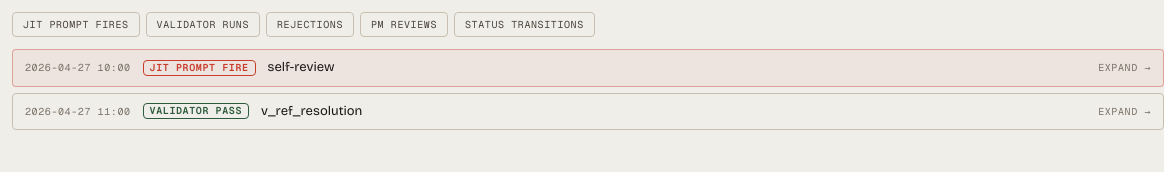
Scenario: SessionEventFeed › filter chip narrows the visible events to the selected kind bucket
expect the text "v_ref_resolution" is shown: met, box [261,102,362,118]
Click the button "JIT prompt fires" at (76, 24), box [12,12,140,37]
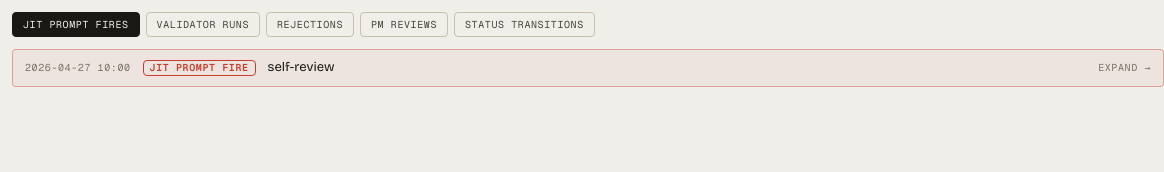
expect the text "self-review" is shown: met, box [268,59,335,75]
expect the text "v_ref_resolution" is gone: met
